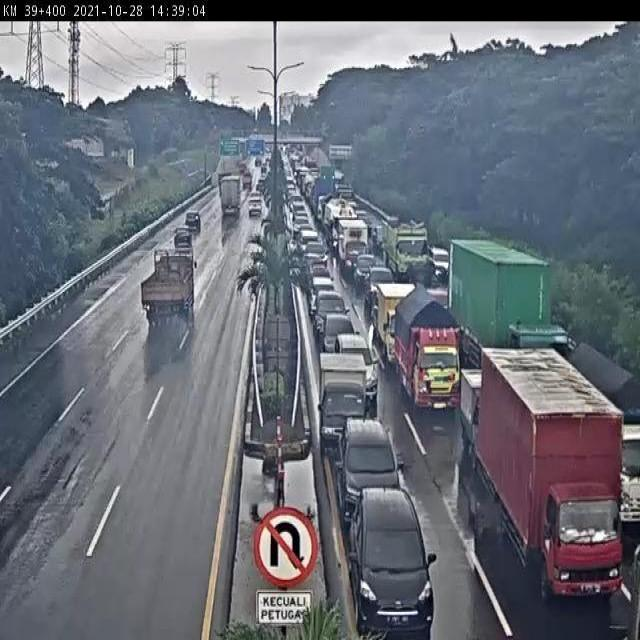big truck: (449, 232, 580, 372), (377, 216, 437, 287), (216, 167, 248, 220)
car: (343, 485, 443, 640), (336, 423, 415, 509), (334, 329, 386, 403), (311, 289, 352, 343), (320, 313, 358, 359), (176, 200, 214, 236), (432, 244, 455, 285), (168, 223, 194, 257)
small truck: (482, 344, 632, 623), (385, 287, 471, 417), (129, 240, 220, 333), (312, 349, 373, 462), (374, 280, 423, 368), (460, 368, 489, 456)
